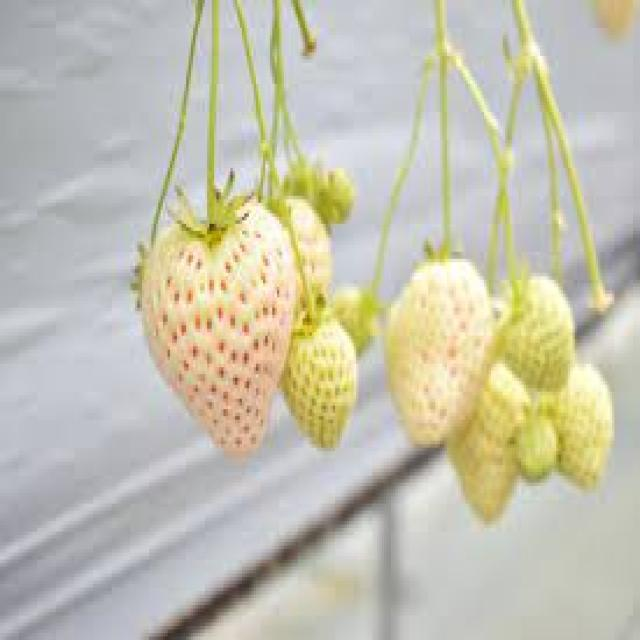strawberry: (143, 201, 296, 457), (387, 254, 492, 447), (448, 364, 526, 522), (279, 309, 359, 449), (496, 271, 576, 391), (549, 360, 615, 488)
